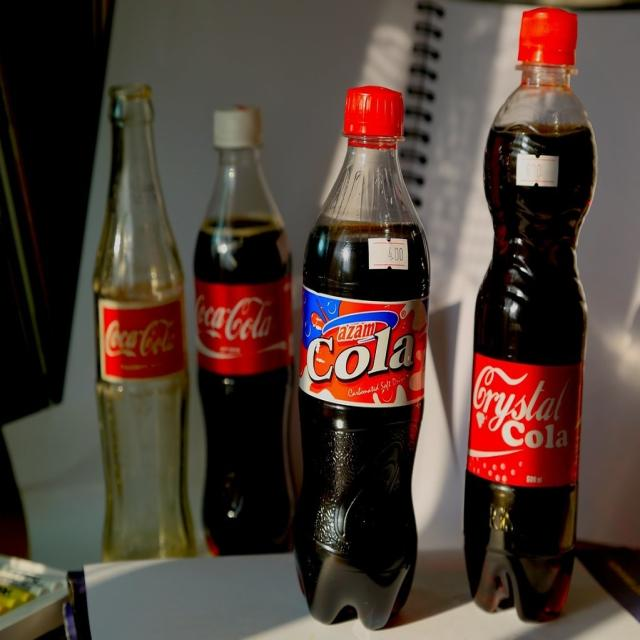Glass: (85, 62, 210, 574)
Plastics: (204, 63, 628, 627)
